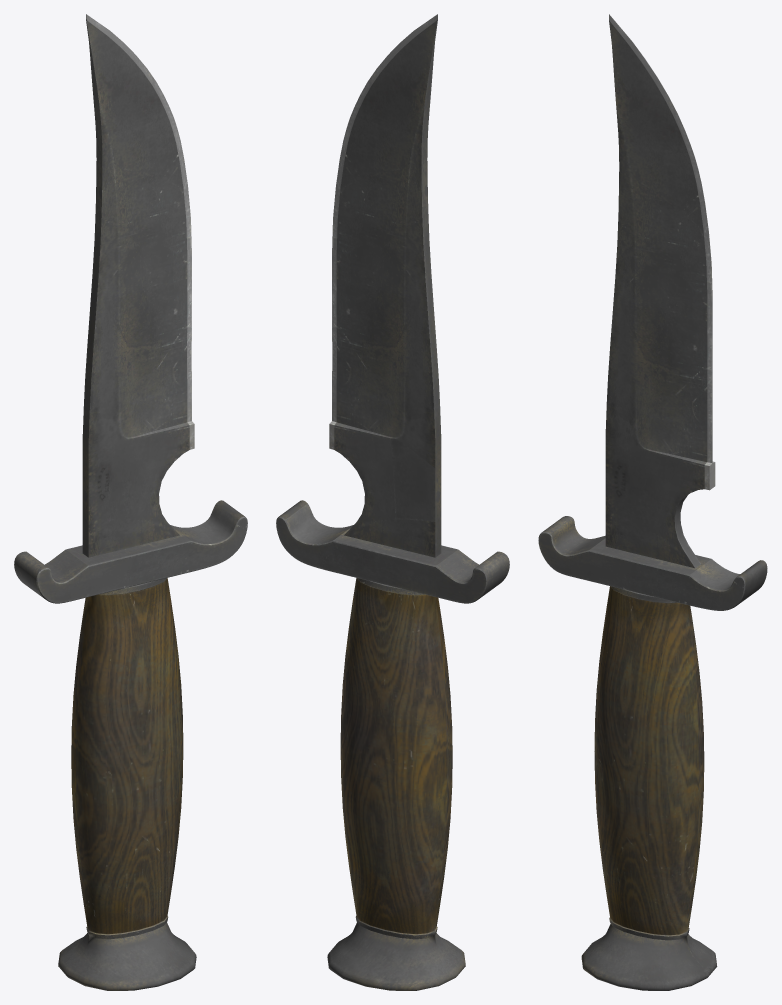
The model's file is gloves_t.glb.
3 views of the same model, side by side, from view 1: azimuth 30°, elevation 25°; view 2: azimuth 150°, elevation 25°; view 3: azimuth 330°, elevation 25° (orthographic). The views are drawn at different scales.
Parts seen in each view (by area): view 1: weapons/models/knife/knife_default_t/weapon_knife_default_t; view 2: weapons/models/knife/knife_default_t/weapon_knife_default_t; view 3: weapons/models/knife/knife_default_t/weapon_knife_default_t.
Boxes of the visible parts, box(x1,y1,x2,y2) form: weapons/models/knife/knife_default_t/weapon_knife_default_t: box(14, 14, 247, 990); weapons/models/knife/knife_default_t/weapon_knife_default_t: box(276, 14, 509, 990); weapons/models/knife/knife_default_t/weapon_knife_default_t: box(538, 14, 767, 990).
Bounding box in the file's own units: 3.02 × 13.32 × 1.59.
1 material, 1 textured.
